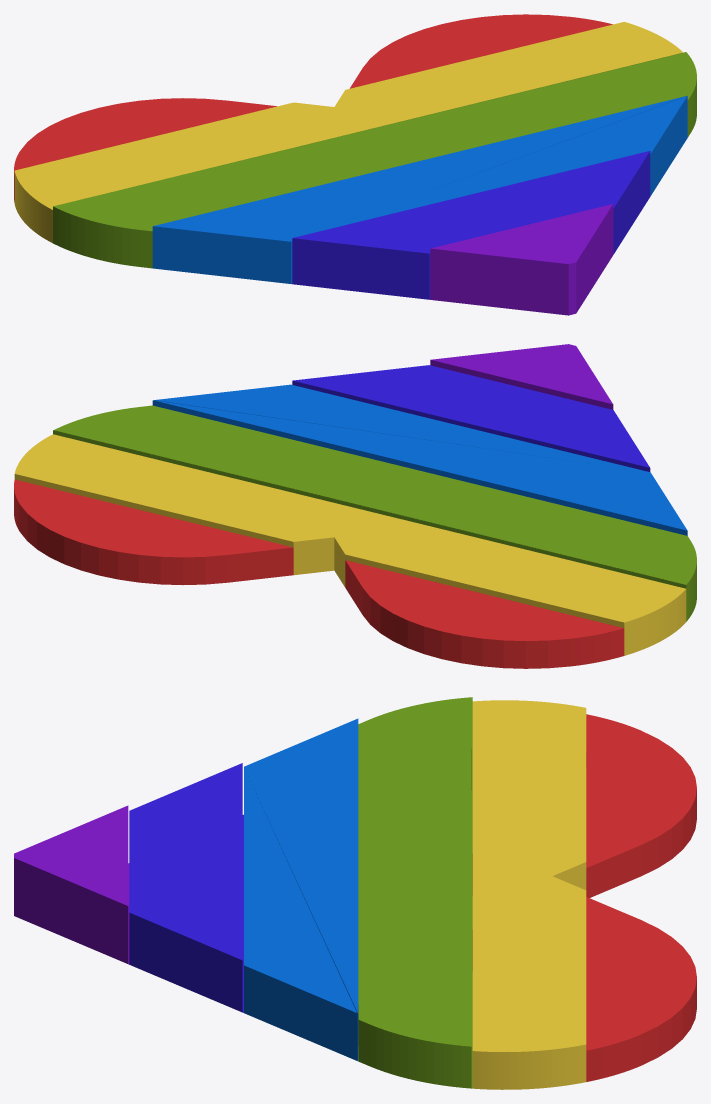
The model's file is Heart.fbx.
3 views of the same model, one above another, from view 1: azimuth 30°, elevation 25°; view 2: azimuth 150°, elevation 25°; view 3: azimuth 270°, elevation 25° (orthographic). The views are drawn at different scales.
Parts seen in each view (by area): view 1: Curve.003, Curve.002, Curve.004, Curve.005, Curve.006, Curve.001, Curve; view 2: Curve.002, Curve.003, Curve.004, Curve.001, Curve, Curve.005, Curve.006; view 3: Curve.002, Curve.003, Curve.004, Curve.005, Curve, Curve.001, Curve.006.
Part boxes in pixels (<box>): Curve.003: <box>53,52,696,268</box>; Curve.002: <box>14,22,682,243</box>; Curve.004: <box>152,95,687,283</box>; Curve.005: <box>291,151,650,299</box>; Curve.006: <box>430,204,613,315</box>; Curve.001: <box>14,98,276,202</box>; Curve: <box>350,14,612,88</box>; Curve.002: <box>14,434,686,655</box>; Curve.003: <box>53,405,696,621</box>; Curve.004: <box>152,384,687,535</box>; Curve.001: <box>345,560,624,668</box>; Curve: <box>14,479,293,585</box>; Curve.005: <box>292,365,650,471</box>; Curve.006: <box>430,344,613,409</box>; Curve.002: <box>472,700,586,1089</box>; Curve.003: <box>358,697,472,1088</box>; Curve.004: <box>244,718,358,1061</box>; Curve.005: <box>129,763,243,1012</box>; Curve: <box>586,897,696,1081</box>; Curve.001: <box>586,714,696,897</box>; Curve.006: <box>14,805,129,964</box>.
Bounding box in the file's own units: 55.86 × 4.3 × 45.82.
